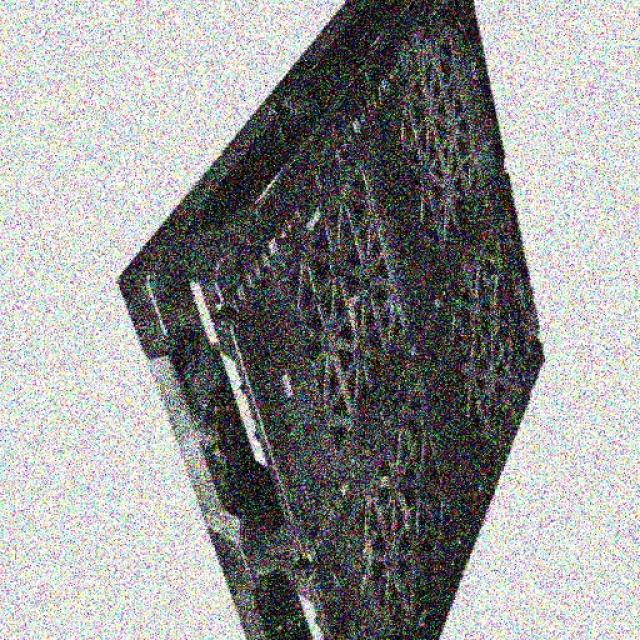non-igps: (115, 0, 551, 640)
